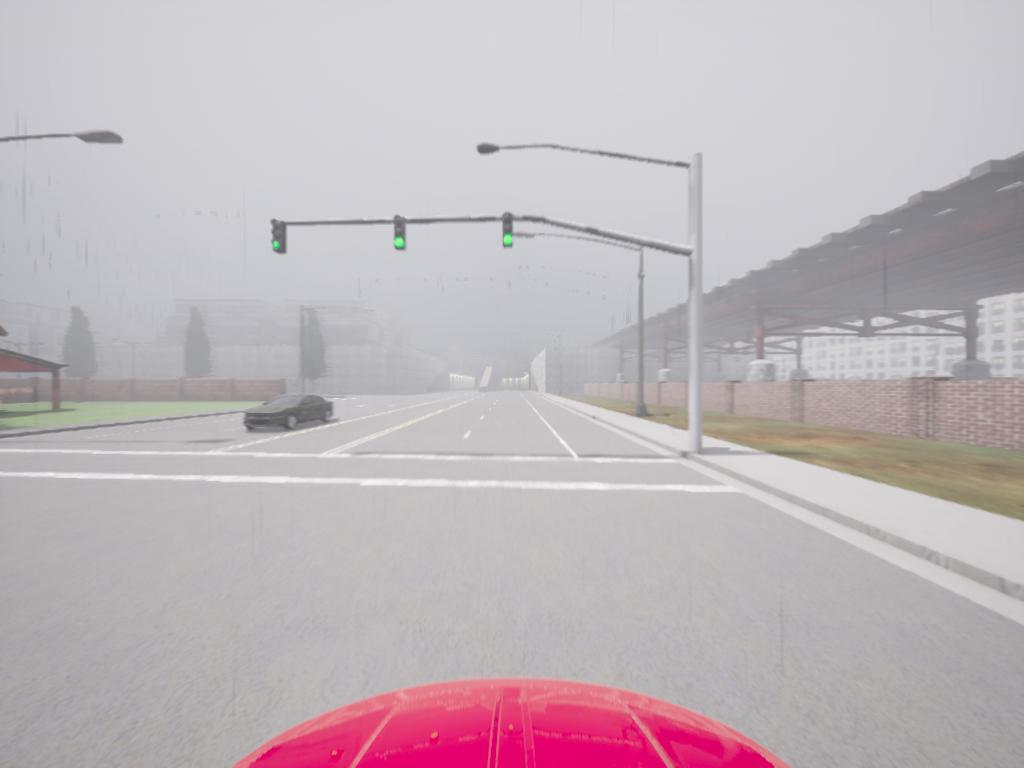traffic_light: (273, 221, 292, 255), (392, 218, 407, 251), (502, 217, 514, 251)
